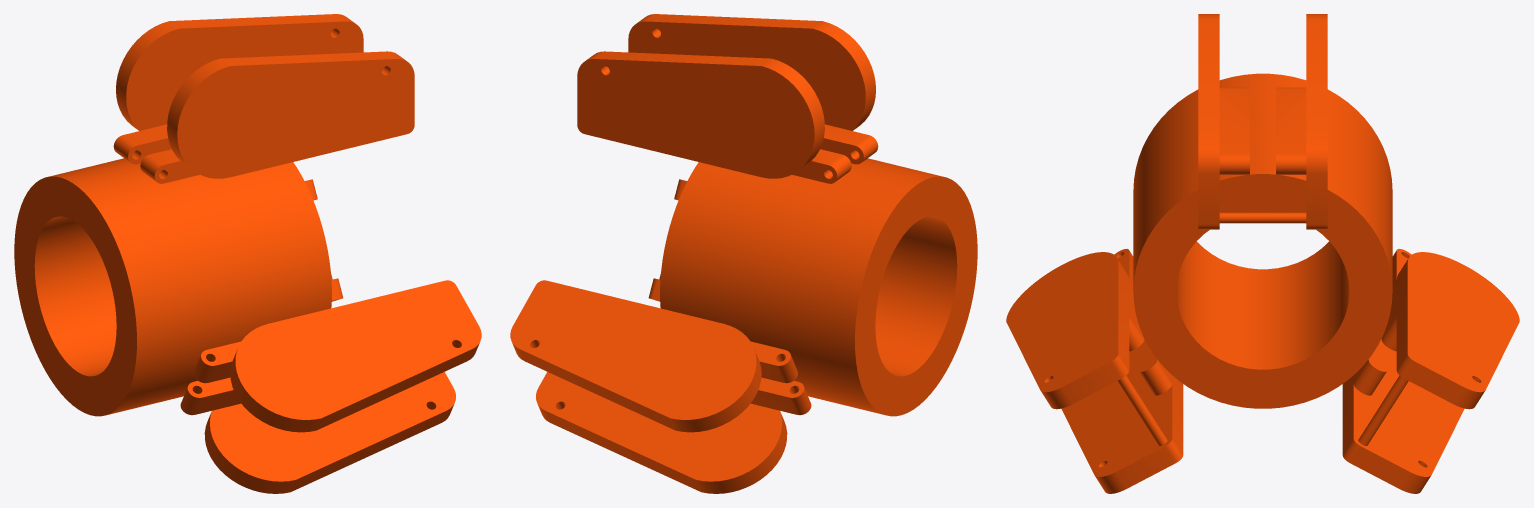
Rendered from gripper_base_1.dae.
3 views of the same model, side by side, from view 1: azimuth 30°, elevation 25°; view 2: azimuth 150°, elevation 25°; view 3: azimuth 270°, elevation 25° (orthographic). The views are drawn at different scales.
Parts seen in each view (by area): view 1: gripper_base_1; view 2: gripper_base_1; view 3: gripper_base_1.
Part boxes in pixels (bbox=[...]): gripper_base_1: bbox=[14, 14, 481, 493]; gripper_base_1: bbox=[510, 14, 977, 493]; gripper_base_1: bbox=[1006, 14, 1519, 493].
Size of the model in its own units: 87 by 119 by 103.
